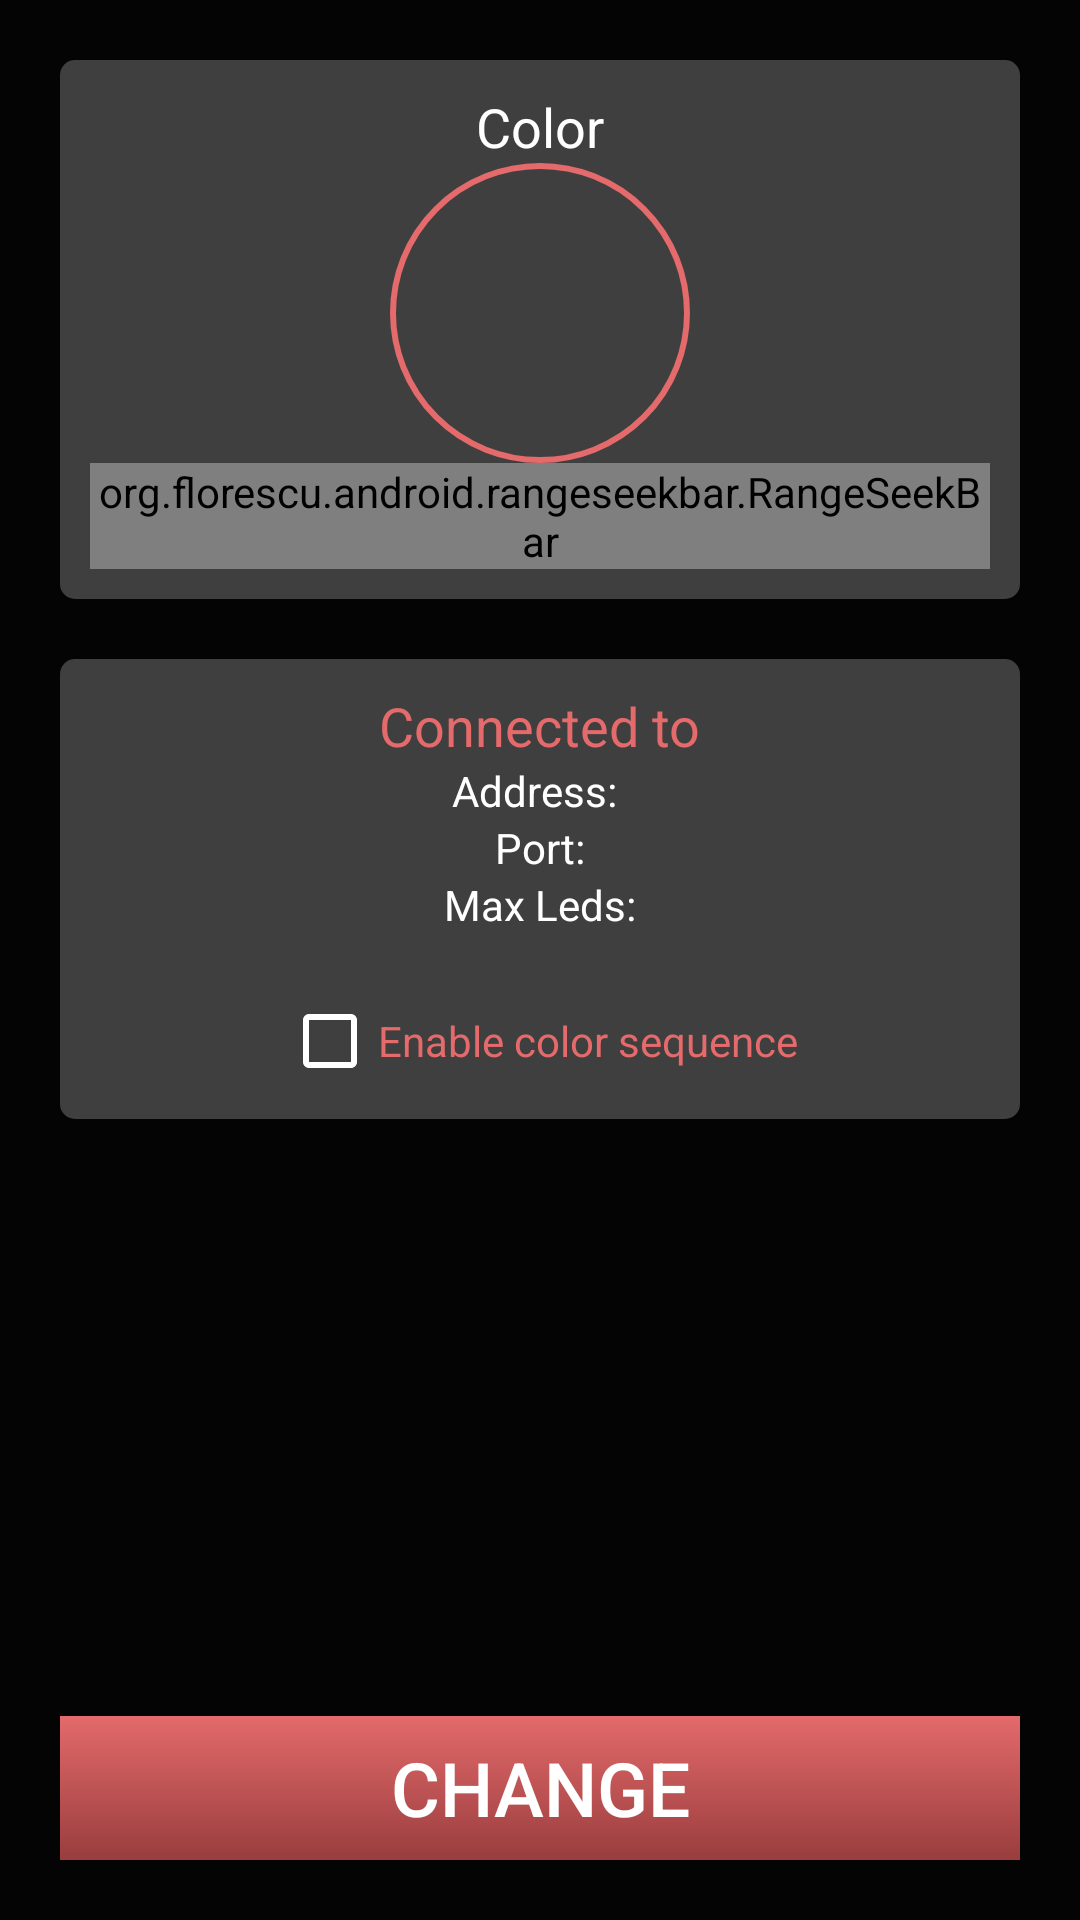

Screen size 1080×1920. Icon name, then its box in pixels as (left=x1, top=y1, right=x2, bottom=y2):
circle: (left=390, top=163, right=690, bottom=463)
